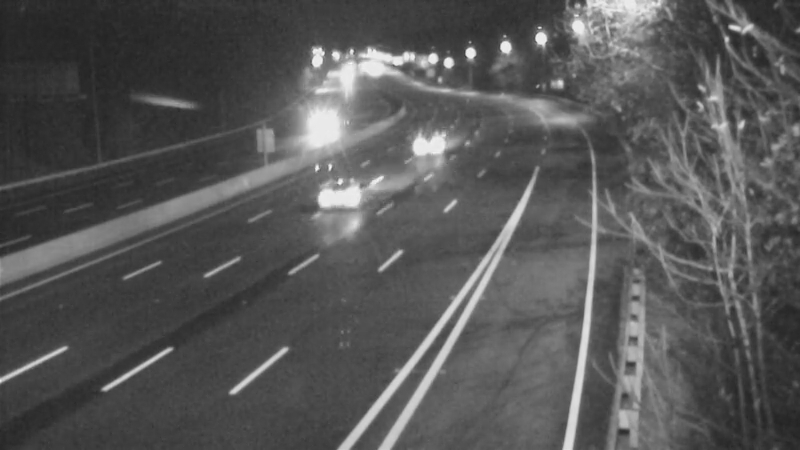vehicle: (290, 158, 370, 238), (396, 118, 446, 168), (300, 104, 350, 154)
